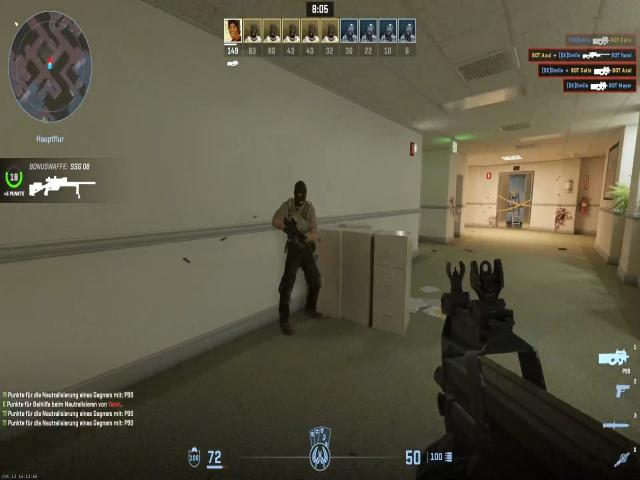T: (280, 174, 322, 261), (289, 177, 313, 207)
